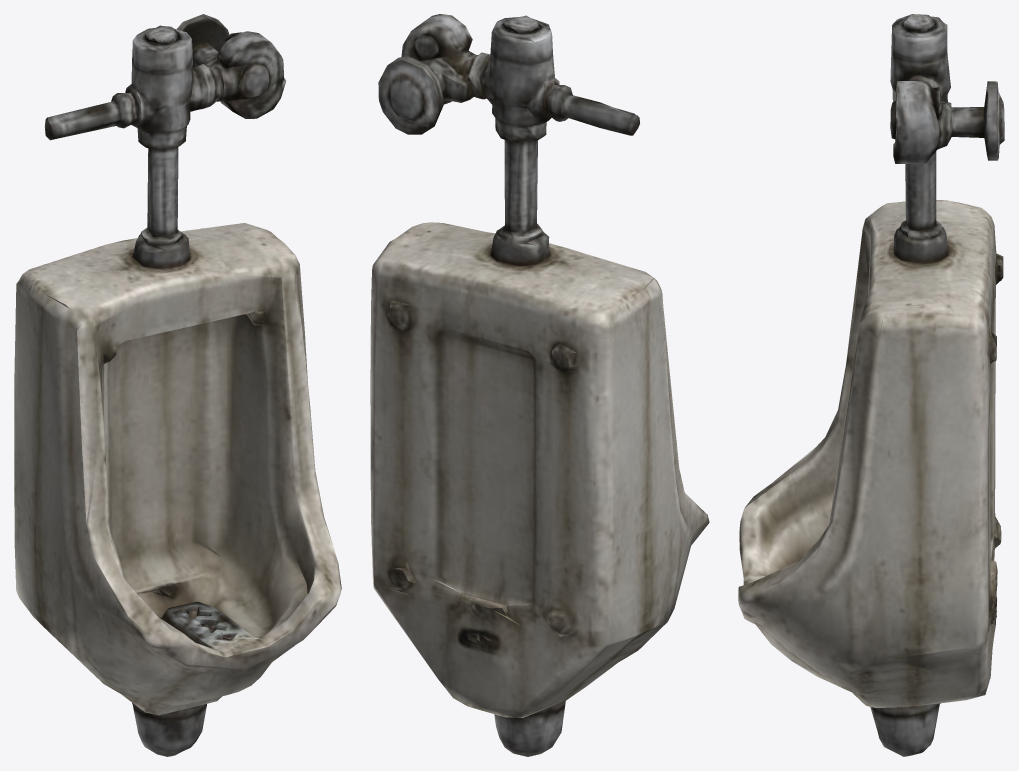
File: p7-urinal.glb
The picture shows the model from 3 angles, left to right: view 1: azimuth 30°, elevation 25°; view 2: azimuth 150°, elevation 25°; view 3: azimuth 270°, elevation 25°; orthographic projection. The views are drawn at different scales.
Parts seen in each view (by area): view 1: p7-urinal; view 2: p7-urinal; view 3: p7-urinal.
Boxes of the visible parts, x1,y1,x2,y2 form: p7-urinal: [14, 14, 341, 756]; p7-urinal: [370, 14, 709, 756]; p7-urinal: [738, 14, 1004, 756].
Size of the model in its own units: 0.4 by 1.1 by 0.3631.
1 material, 1 textured.
